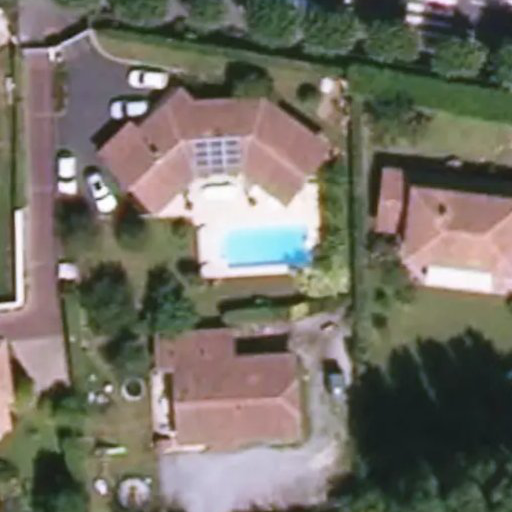pool: (207, 224, 303, 260)
